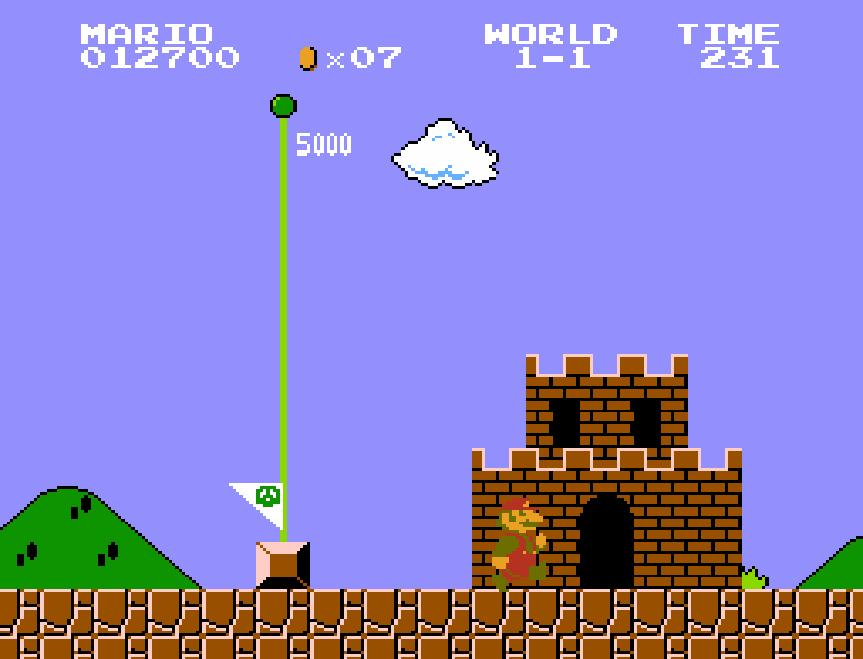big_mario: (490, 496, 548, 594)
